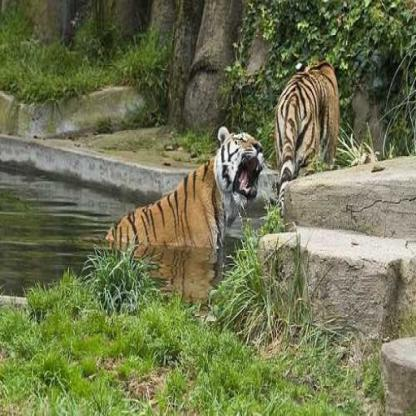Tiger: (110, 116, 260, 306), (259, 29, 352, 189)
